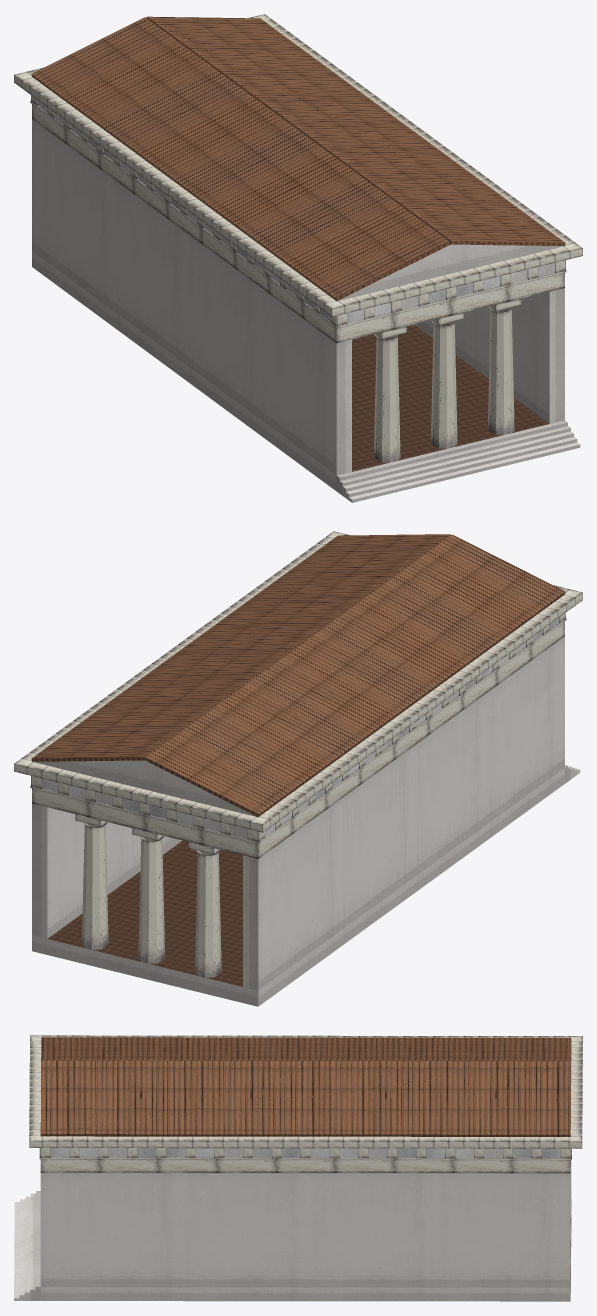
File: agora_Shape_1.glb
3 views of the same model, one above another, from view 1: azimuth 30°, elevation 25°; view 2: azimuth 150°, elevation 25°; view 3: azimuth 270°, elevation 25° (orthographic). The views are drawn at different scales.
Parts seen in each view (by area): view 1: mesh_roof_2; view 2: mesh_roof_2; view 3: mesh_roof_2.
Part boxes in pixels (<box>): mesh_roof_2: <box>14,14,582,502</box>; mesh_roof_2: <box>14,531,582,1006</box>; mesh_roof_2: <box>14,1035,582,1301</box>.
Size of the model in its own units: 16.45 by 13.88 by 37.17.
Materials: 7 (7 with a texture image).
